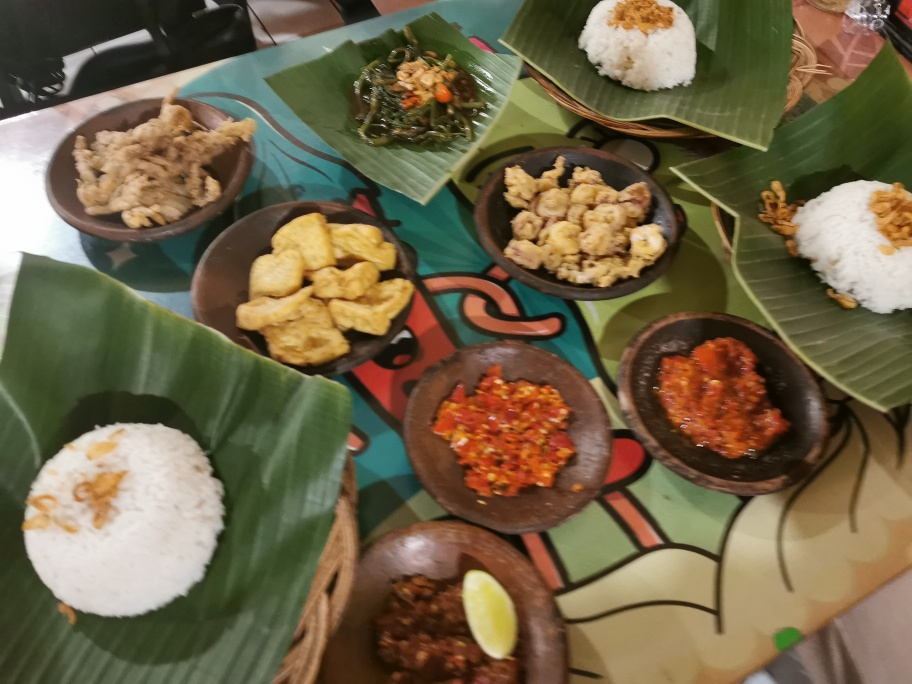nasi putih: (23, 419, 223, 621), (789, 178, 912, 310), (579, 1, 700, 89)
